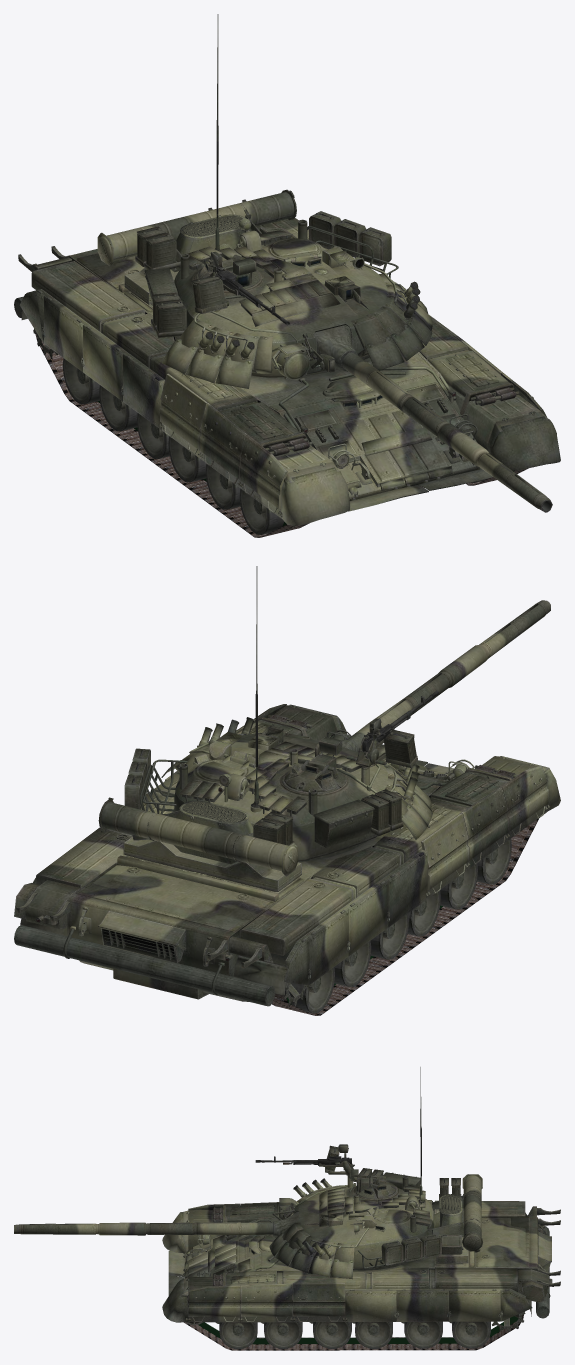
Rendered from tank_t80.glb.
The picture shows the model from 3 angles, top to bottom: view 1: azimuth 30°, elevation 25°; view 2: azimuth 150°, elevation 25°; view 3: azimuth 270°, elevation 25°; orthographic projection. The views are drawn at different scales.
Visible parts, largest first — view 1: T-80U_Main_2, Object_48, Object_44, Plane01_7, Object_18, T-80U_Stan_17, Object_26, Object_22, Object_28, Object_20, Object_24, T-80U_Mini_16 (+2 smaller); view 2: T-80U_Main_2, Object_48, Object_44, Plane01_7, T-80U_Stan_17, Object_28, Object_24, Object_20, Object_26, Object_18, Object_22, T-80U_Mini_16 (+1 smaller); view 3: T-80U_Main_2, Object_48, Object_44, Plane01_7, Object_28, Object_18, Object_20, Object_22, Object_26, Object_24, Object_8, T-80U_Mini_16.
Part boxes in pixels (x1,y1,x2,y2): T-80U_Main_2: (14, 199, 560, 525); Object_48: (97, 189, 432, 388); Object_44: (314, 325, 552, 512); Plane01_7: (34, 329, 528, 537); Object_18: (239, 479, 486, 534); T-80U_Stan_17: (191, 269, 228, 313); Object_26: (99, 385, 137, 431); Object_22: (168, 436, 206, 482); Object_28: (62, 358, 99, 404); Object_20: (205, 464, 240, 509); Object_24: (137, 413, 169, 458); T-80U_Mini_16: (208, 251, 289, 325); T-80U_Main_2: (14, 704, 560, 1006); Object_48: (98, 717, 432, 891); Object_44: (342, 600, 550, 752); Plane01_7: (272, 818, 538, 1015); T-80U_Stan_17: (346, 729, 417, 767); Object_28: (285, 967, 334, 1013); Object_24: (370, 913, 408, 959); Object_20: (440, 863, 477, 909); Object_26: (334, 941, 371, 986); Object_18: (477, 838, 511, 884); Object_22: (407, 891, 440, 936); T-80U_Mini_16: (359, 690, 438, 759); T-80U_Main_2: (162, 1200, 560, 1323); Object_48: (269, 1168, 482, 1279); Object_44: (14, 1211, 298, 1236); Plane01_7: (184, 1295, 523, 1350); Object_28: (452, 1321, 490, 1348); Object_18: (219, 1304, 257, 1349); Object_20: (264, 1306, 302, 1348); Object_22: (313, 1322, 351, 1348); Object_26: (404, 1321, 442, 1348); Object_24: (355, 1322, 392, 1348); Object_8: (198, 1316, 518, 1344); T-80U_Mini_16: (255, 1144, 354, 1170).
Size of the model in its own units: 3.63 by 5.02 by 9.6.
Materials: 4 (3 with a texture image).
